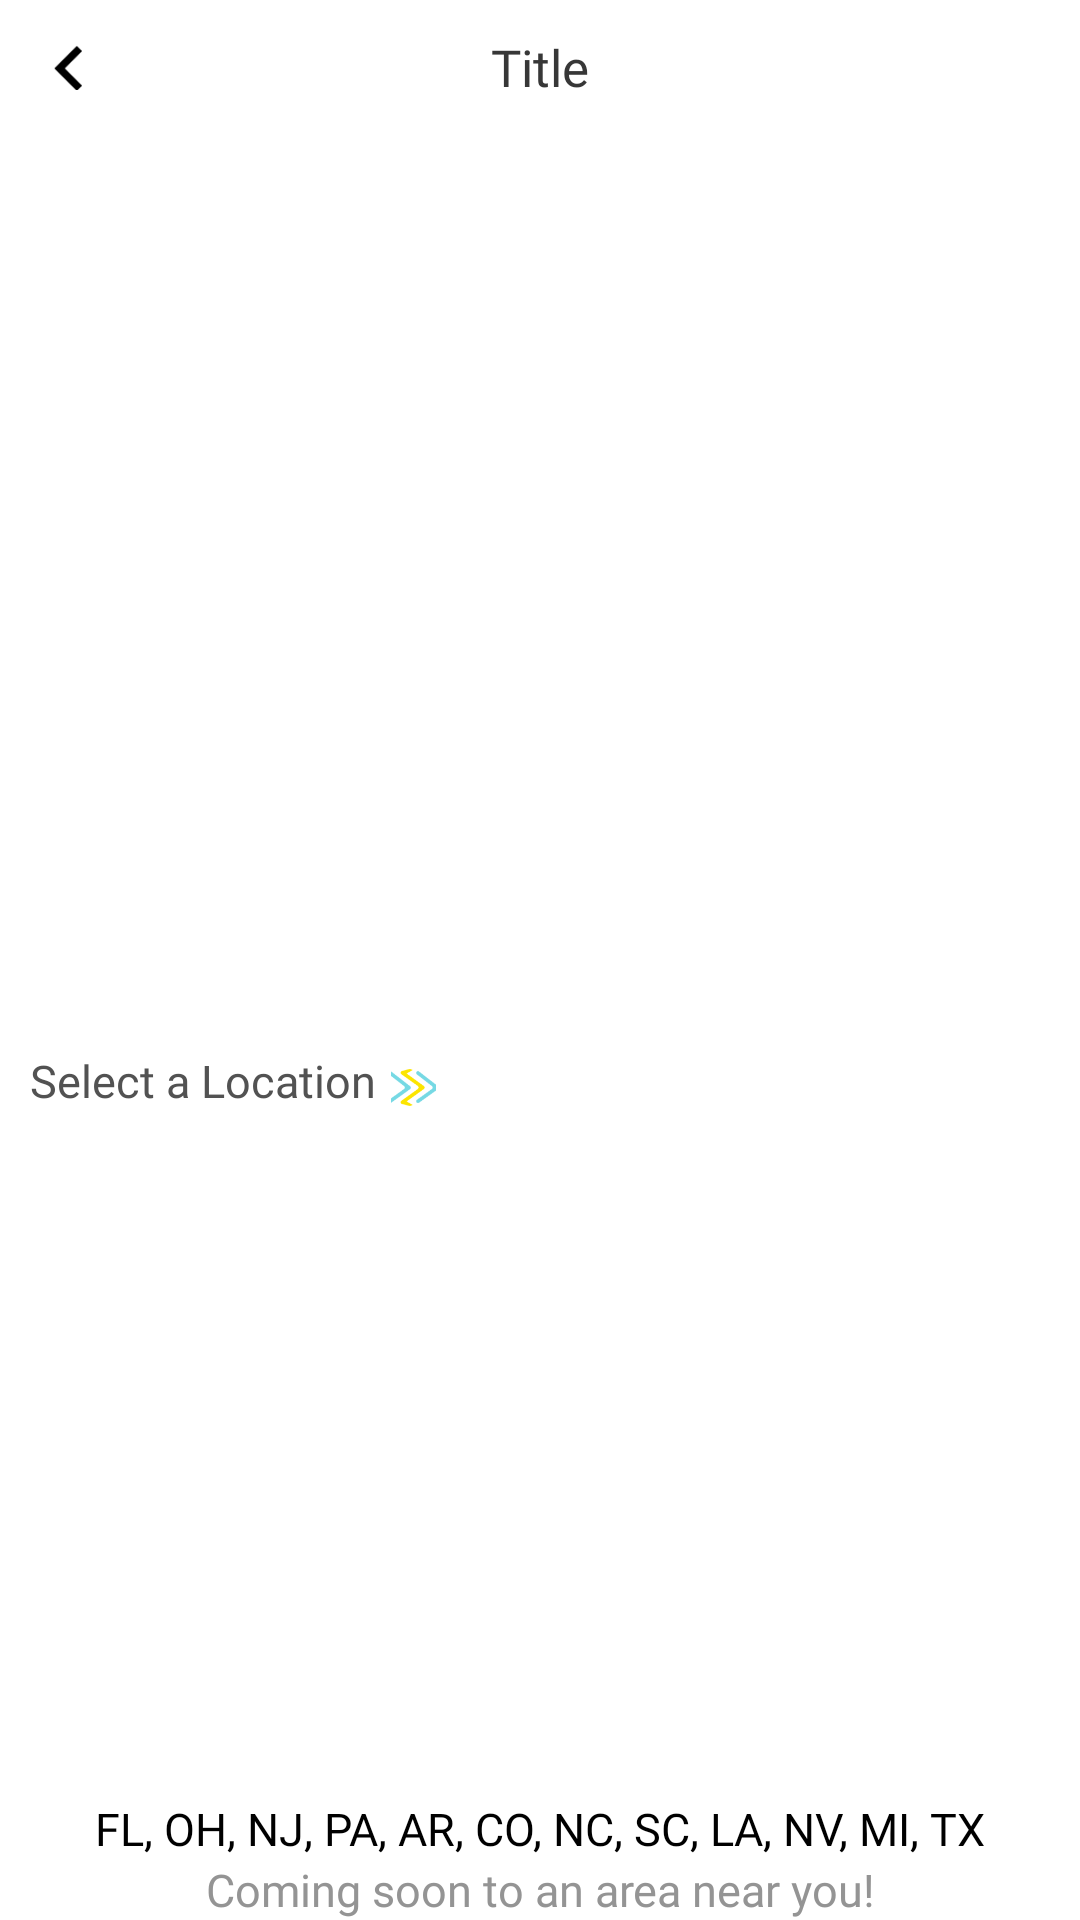

Screen size 1080x1920. Icon name, then its center in pixels as (x=x, y=y):
left arrow: (x=68, y=68)
